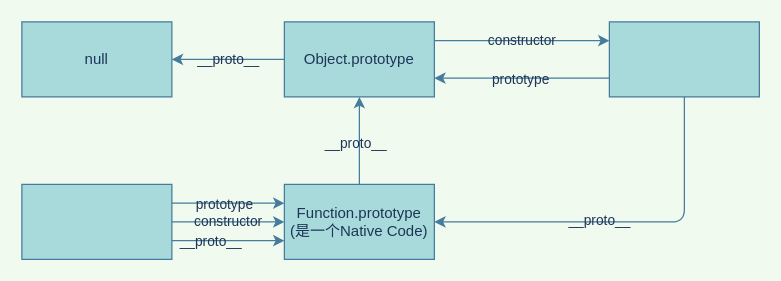
This 781x281 diagram has some shape labels left out. Each missing label, with the box of its shape:
Function函数: (21, 183, 172, 259)
Object函数: (608, 21, 759, 97)
